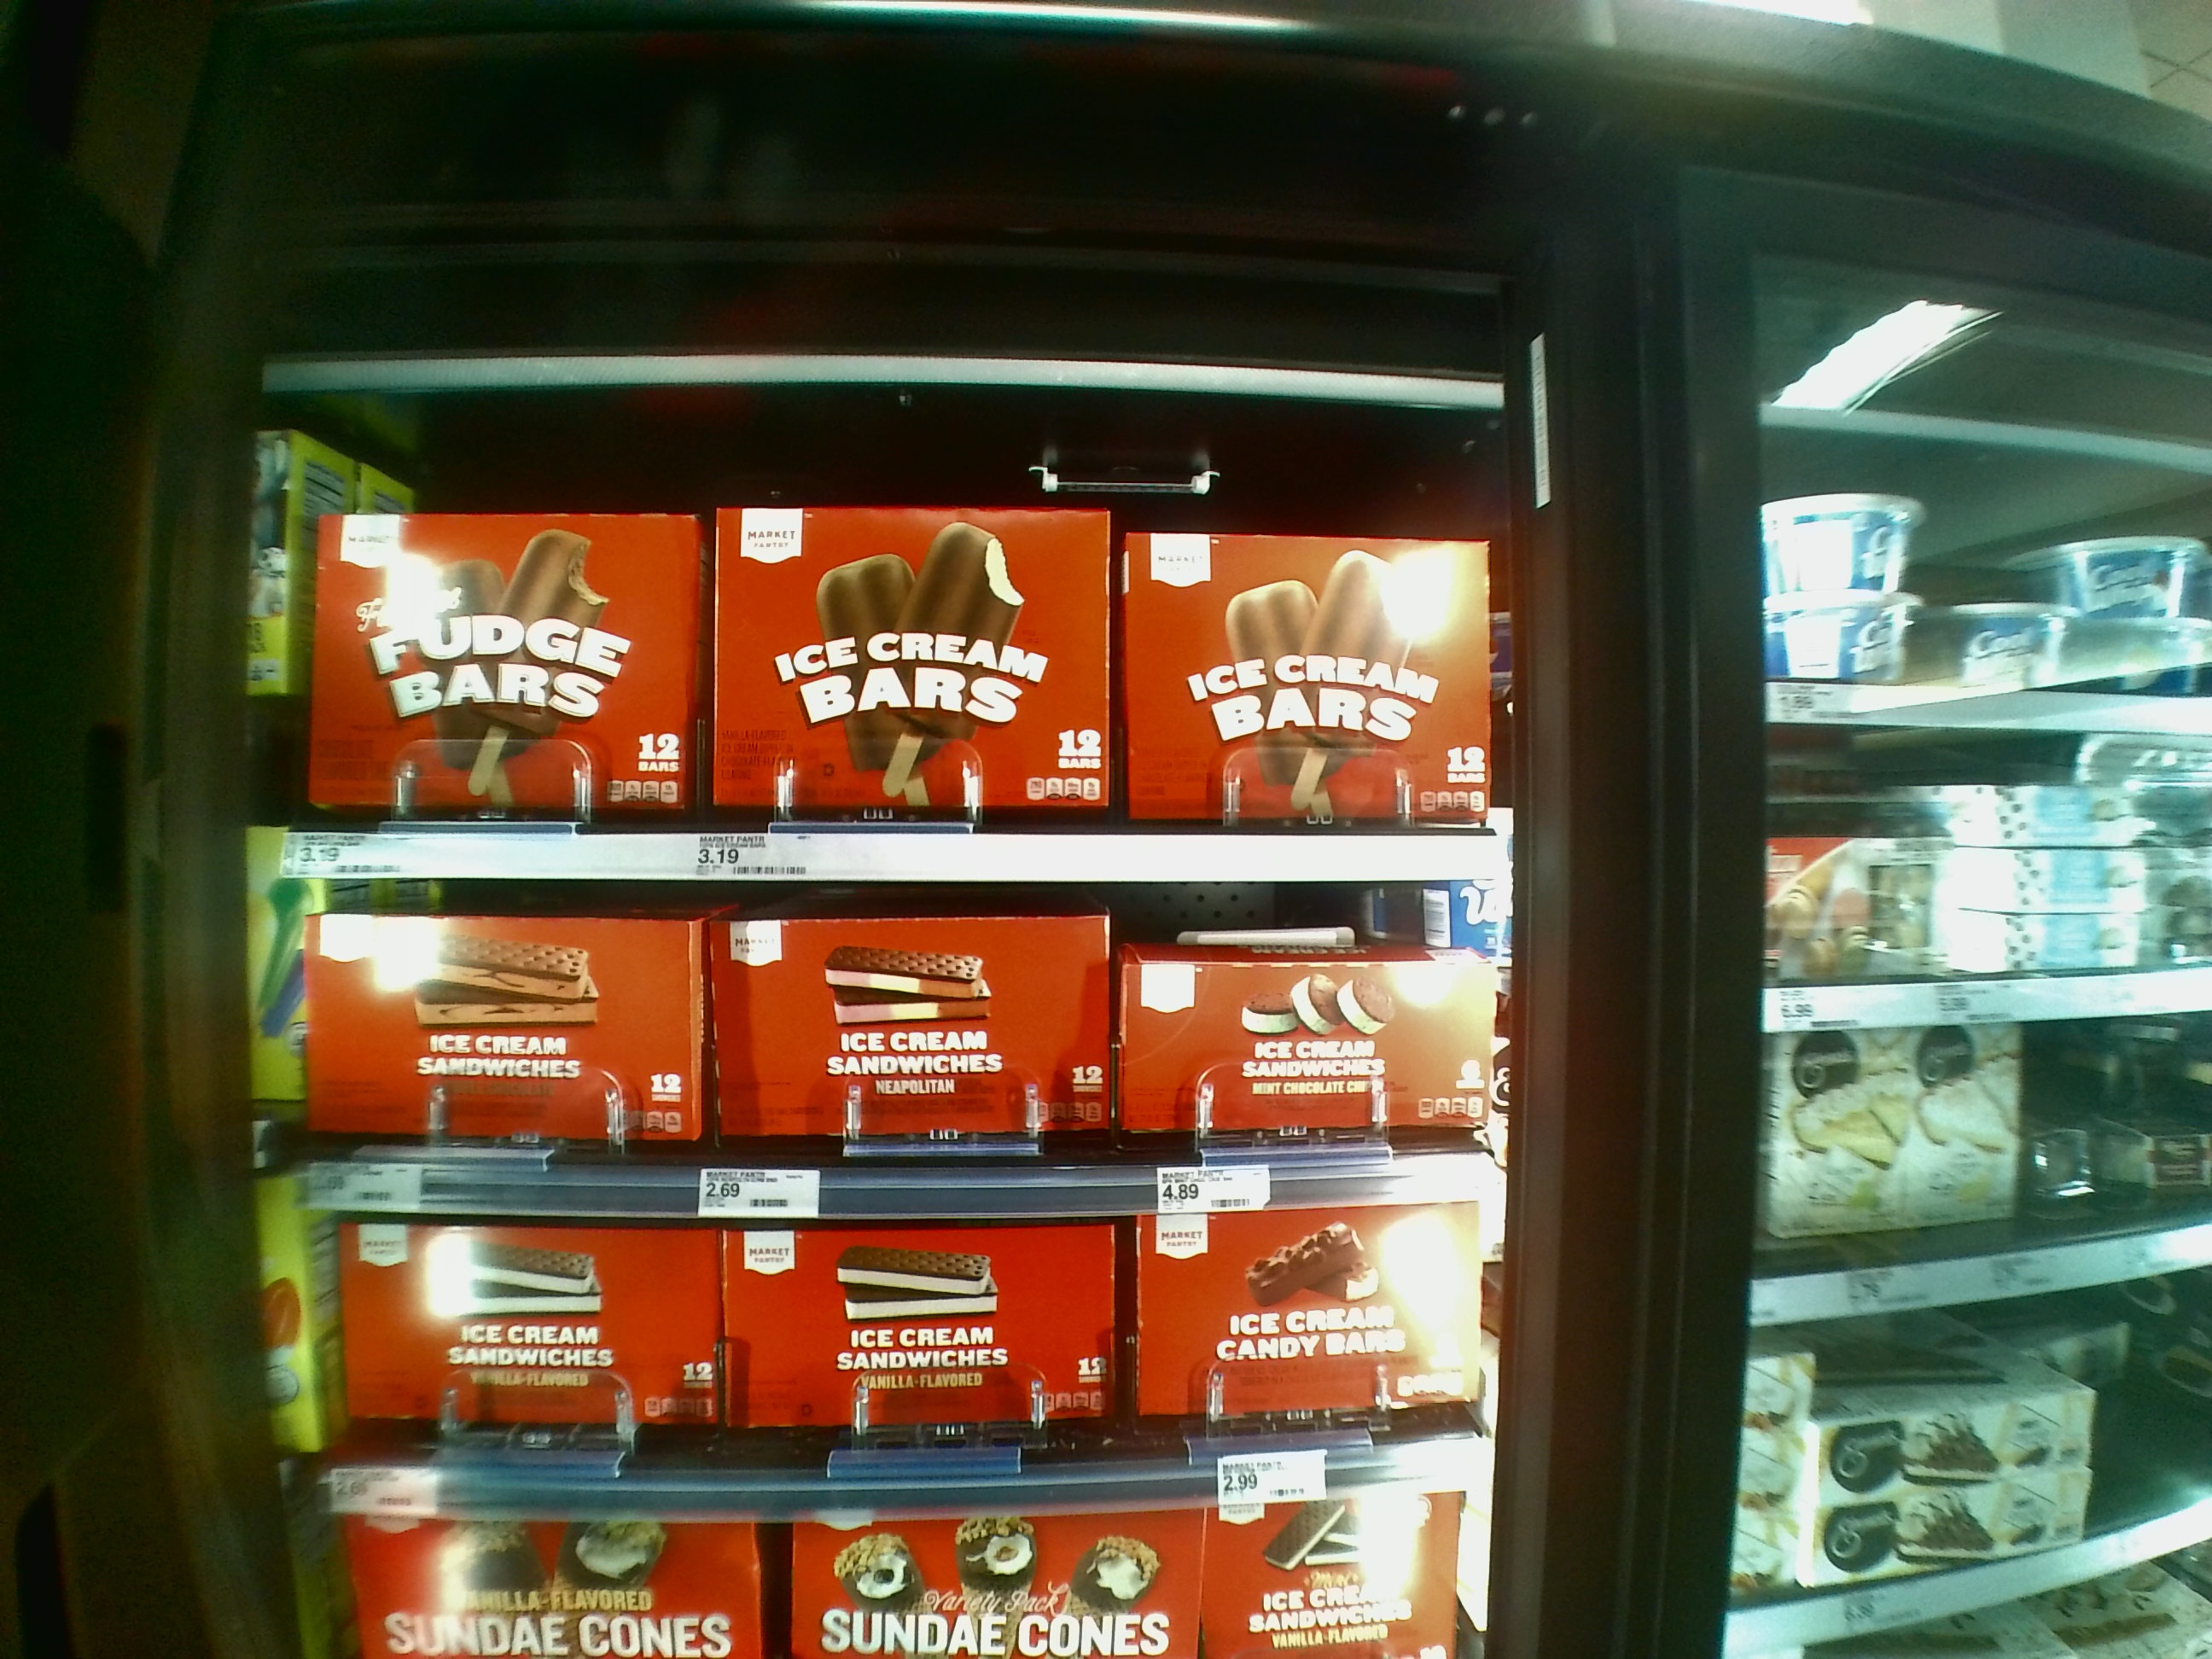shelf: (286, 410, 1482, 882), (300, 878, 1465, 1209), (322, 1208, 1480, 1513)
